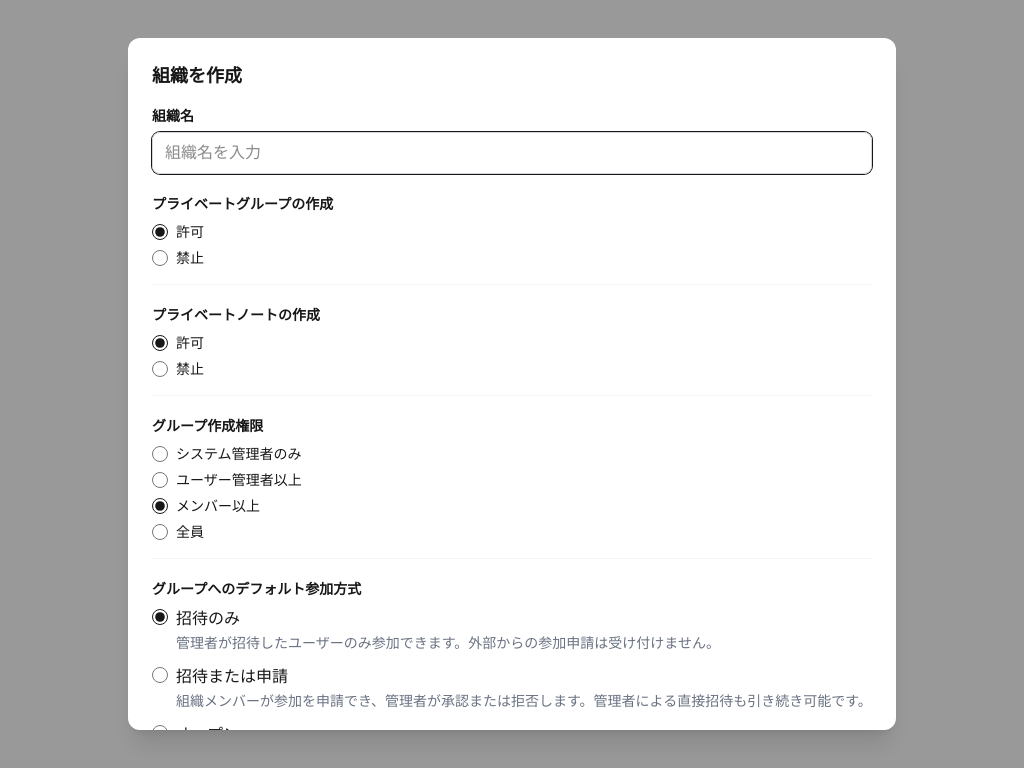
Test: OrgCreateModal › ネットワークエラー時は接続失敗のメッセージを表示する
Type "研究室A" into the field with placeholder "組織名を入力". click: {"x": 512, "y": 153}
box: [152, 132, 872, 174]
(page scrolled)
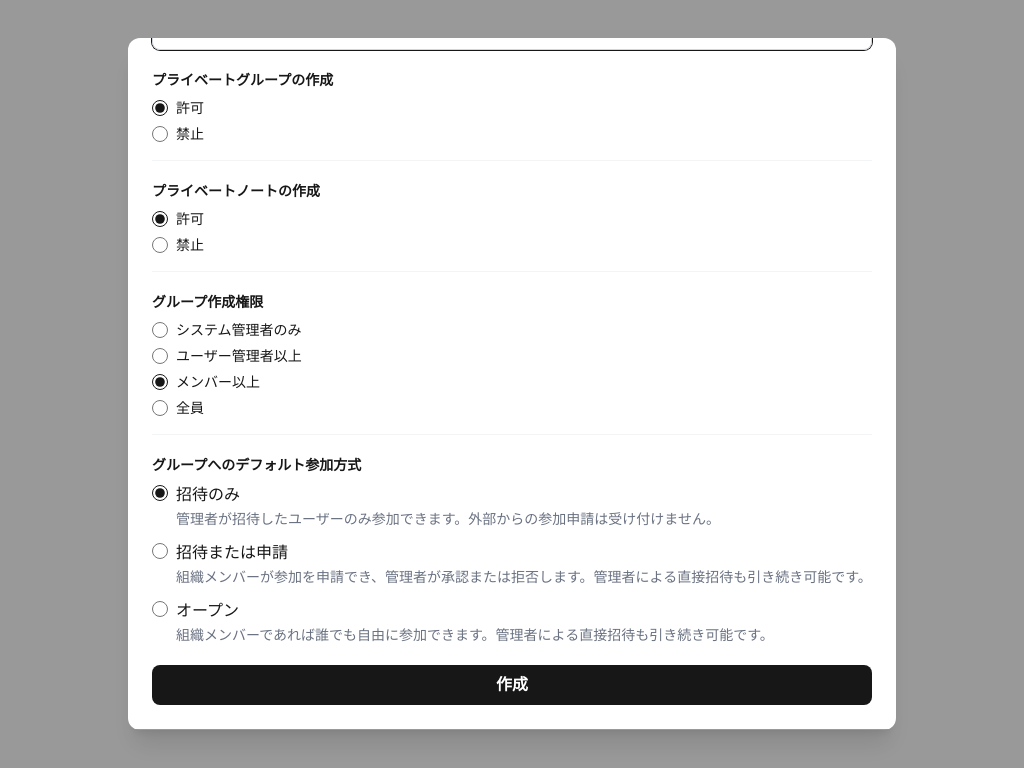
Click the button "作成". click: {"x": 512, "y": 685}
box: [152, 665, 872, 705]
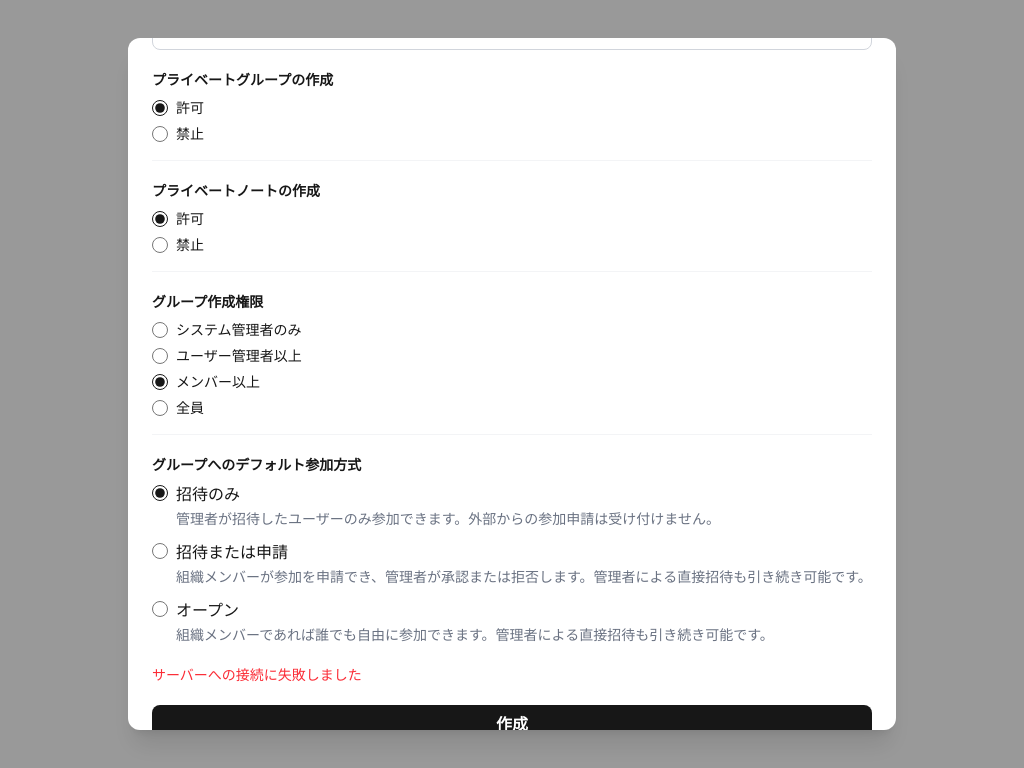
Now the text "サーバーへの接続に失敗しました" is shown, box [152, 667, 362, 683]
